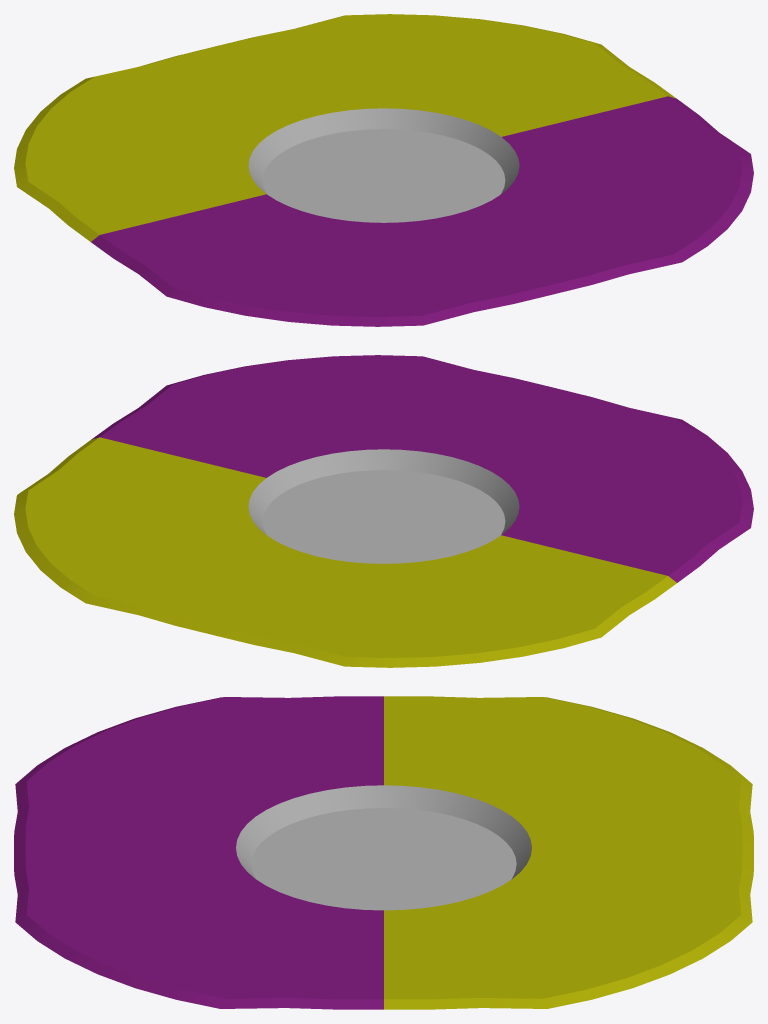
The model's file is courtyard_raised.fbx.
The picture shows the model from 3 angles, top to bottom: view 1: azimuth 30°, elevation 25°; view 2: azimuth 150°, elevation 25°; view 3: azimuth 270°, elevation 25°; orthographic projection. The views are drawn at different scales.
Visible parts, largest first — view 1: courtyard_raised_ground1; view 2: courtyard_raised_ground1; view 3: courtyard_raised_ground1.
Part boxes in pixels (<box>): courtyard_raised_ground1: <box>14,14,753,326</box>; courtyard_raised_ground1: <box>14,355,753,667</box>; courtyard_raised_ground1: <box>14,696,753,1009</box>.
Bounding box in the file's own units: 125 × 3 × 125.
